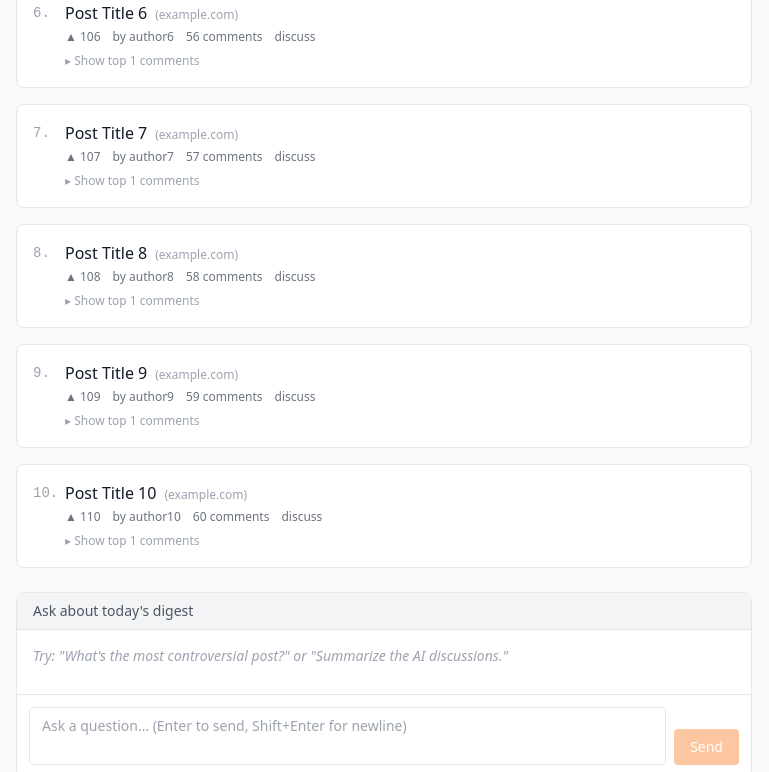
ChatBox (via DigestClient) › submits the question when Enter is pressed
The image size is (769, 772).
(page scrolled)
Type "Enter question" into the text box with placeholder "Ask a question… (Enter to send, Shift+Enter for newline)".
click(348, 736); type("Enter question")  # box [29, 707, 666, 765]
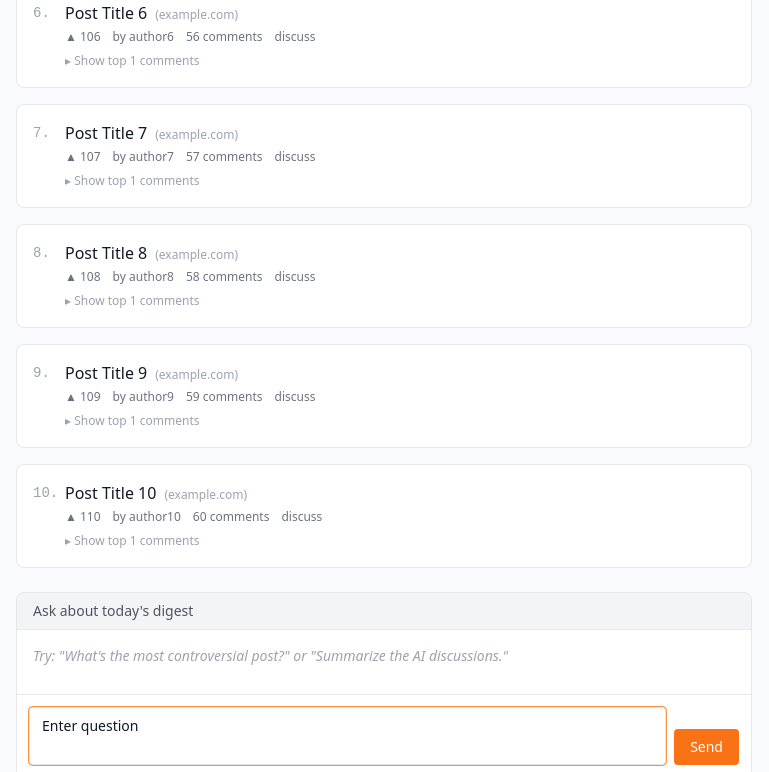
Press Enter
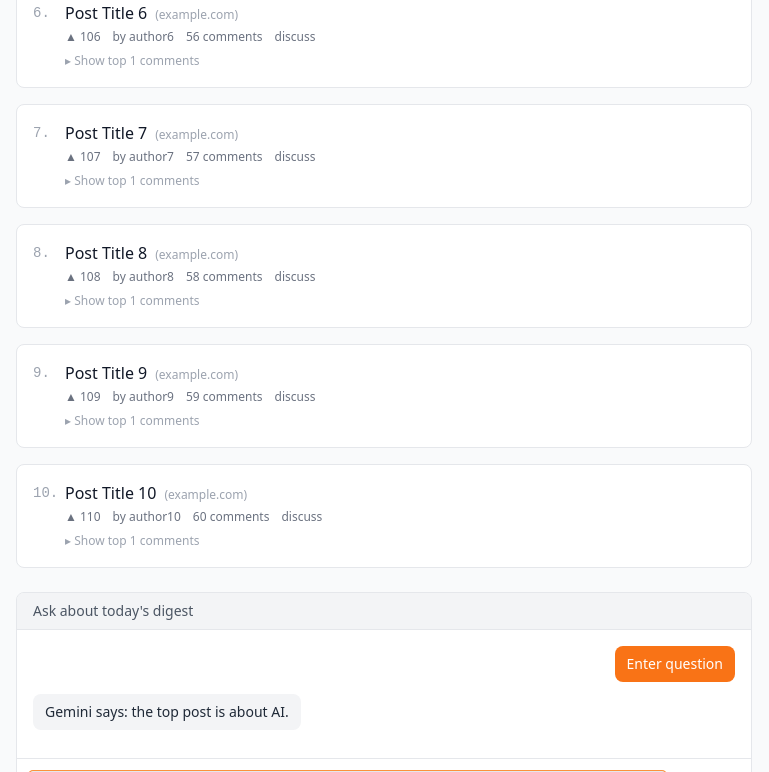
Now the text "Enter question" is shown, box [614, 646, 735, 682]
